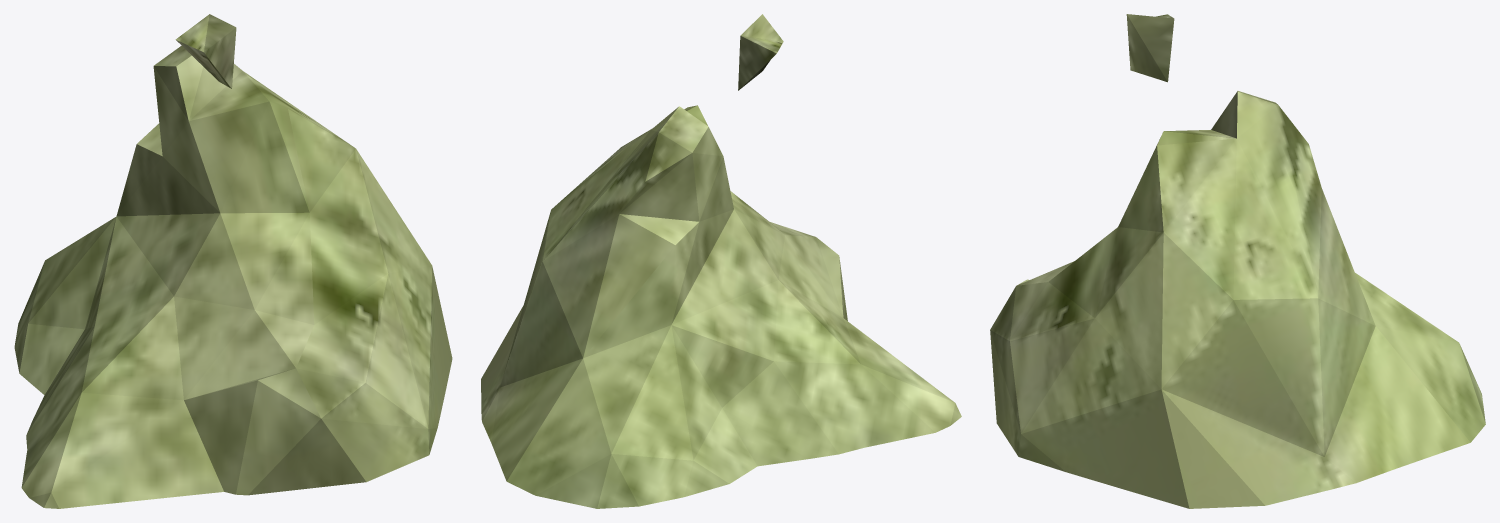
3 views of the same model, side by side, from view 1: azimuth 30°, elevation 25°; view 2: azimuth 150°, elevation 25°; view 3: azimuth 270°, elevation 25° (orthographic). The views are drawn at different scales.
Bounding box in the file's own units: 1.05 × 0.9109 × 1.07.
1 material, 1 textured.
